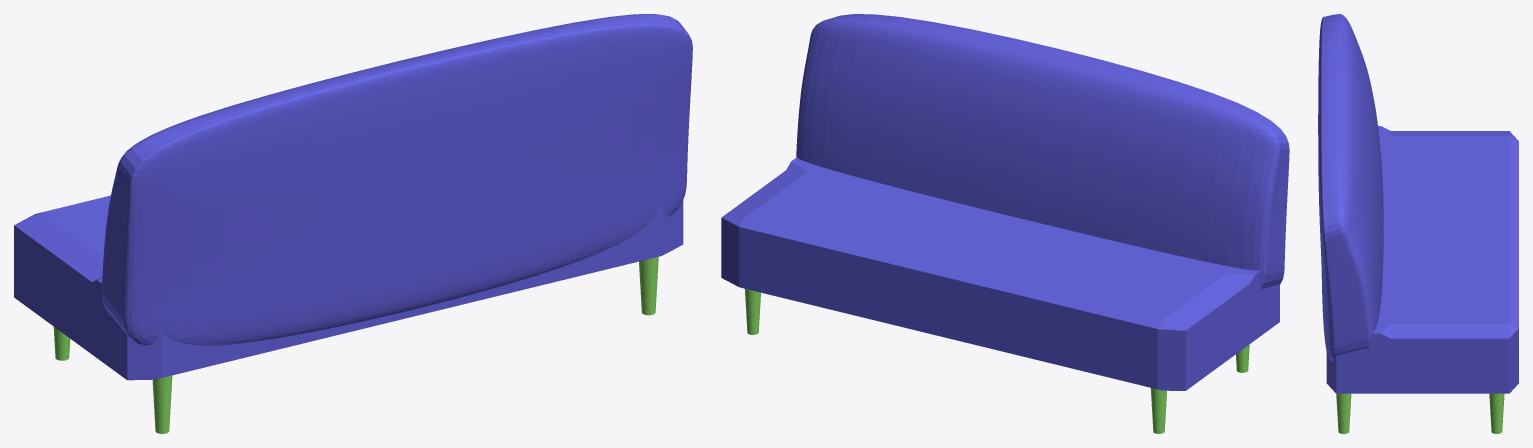
File: sofa_3.glb
3 views of the same model, side by side, from view 1: azimuth 30°, elevation 25°; view 2: azimuth 150°, elevation 25°; view 3: azimuth 270°, elevation 25° (orthographic). The views are drawn at different scales.
Parts seen in each view (by area): view 1: sofa_3_001.001; view 2: sofa_3_001.001; view 3: sofa_3_001.001.
Boxes of the visible parts, x1,y1,x2,y2 form: sofa_3_001.001: (14, 14, 692, 433); sofa_3_001.001: (721, 14, 1289, 433); sofa_3_001.001: (1318, 14, 1518, 433).
Bounding box in the file's own units: 1.14 × 0.6158 × 0.4608.
